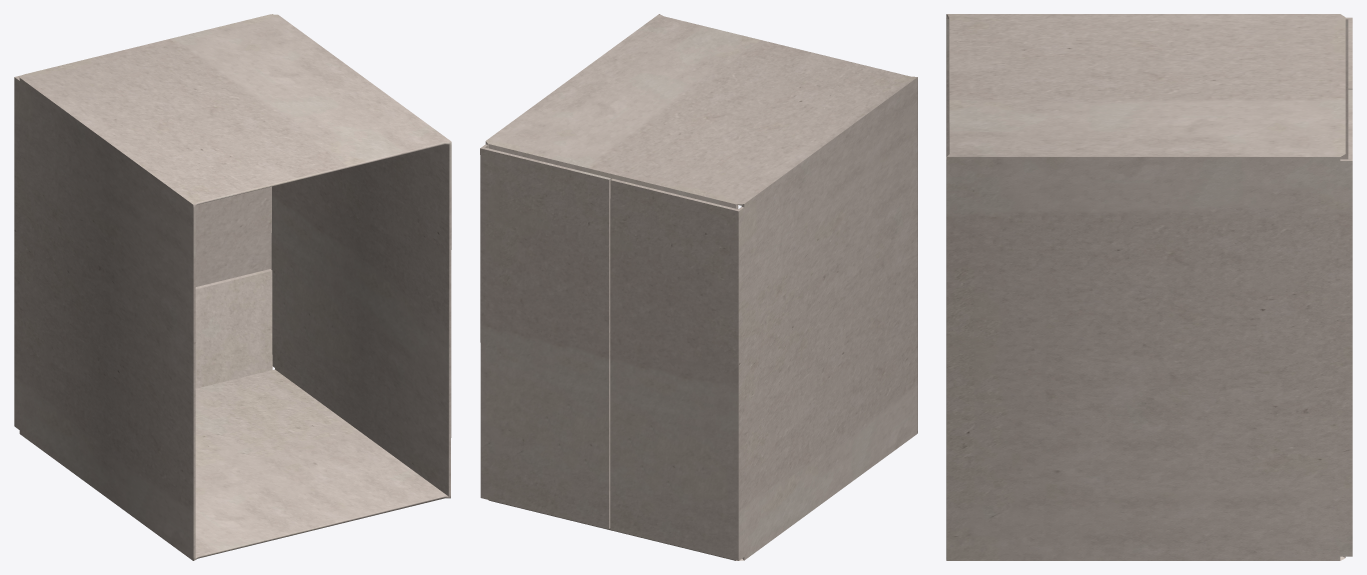
The model's file is MeshBox_28_0.obj.
3 views of the same model, side by side, from view 1: azimuth 30°, elevation 25°; view 2: azimuth 150°, elevation 25°; view 3: azimuth 270°, elevation 25° (orthographic). The views are drawn at different scales.
Parts seen in each view (by area): view 1: Box_28; view 2: Box_28; view 3: Box_28.
Boxes of the visible parts, x1=… form: Box_28: x1=14, y1=14, x2=451, y2=560; Box_28: x1=480, y1=14, x2=917, y2=560; Box_28: x1=946, y1=14, x2=1352, y2=560.
Size of the model in its own units: 0.1805 by 0.2378 by 0.2168.
